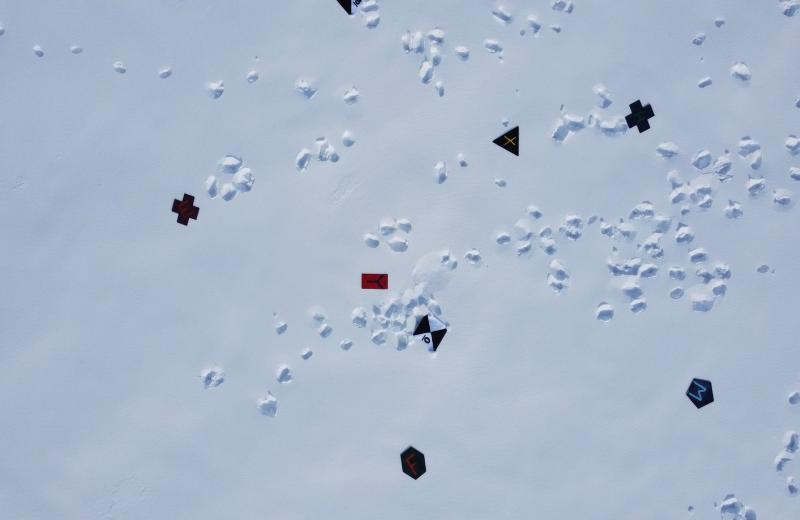Cross: (622, 96, 658, 136), (167, 191, 202, 230)
Hexagon: (393, 444, 432, 481)
Pentagon: (684, 375, 718, 411)
Rectangle: (358, 270, 392, 294)
Triangle: (488, 123, 526, 159)
